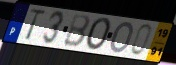0: (129, 23, 154, 58)
3: (40, 9, 65, 48)
B: (61, 15, 91, 49)
O: (85, 17, 113, 52), (109, 21, 135, 55)
T: (24, 8, 48, 42)
